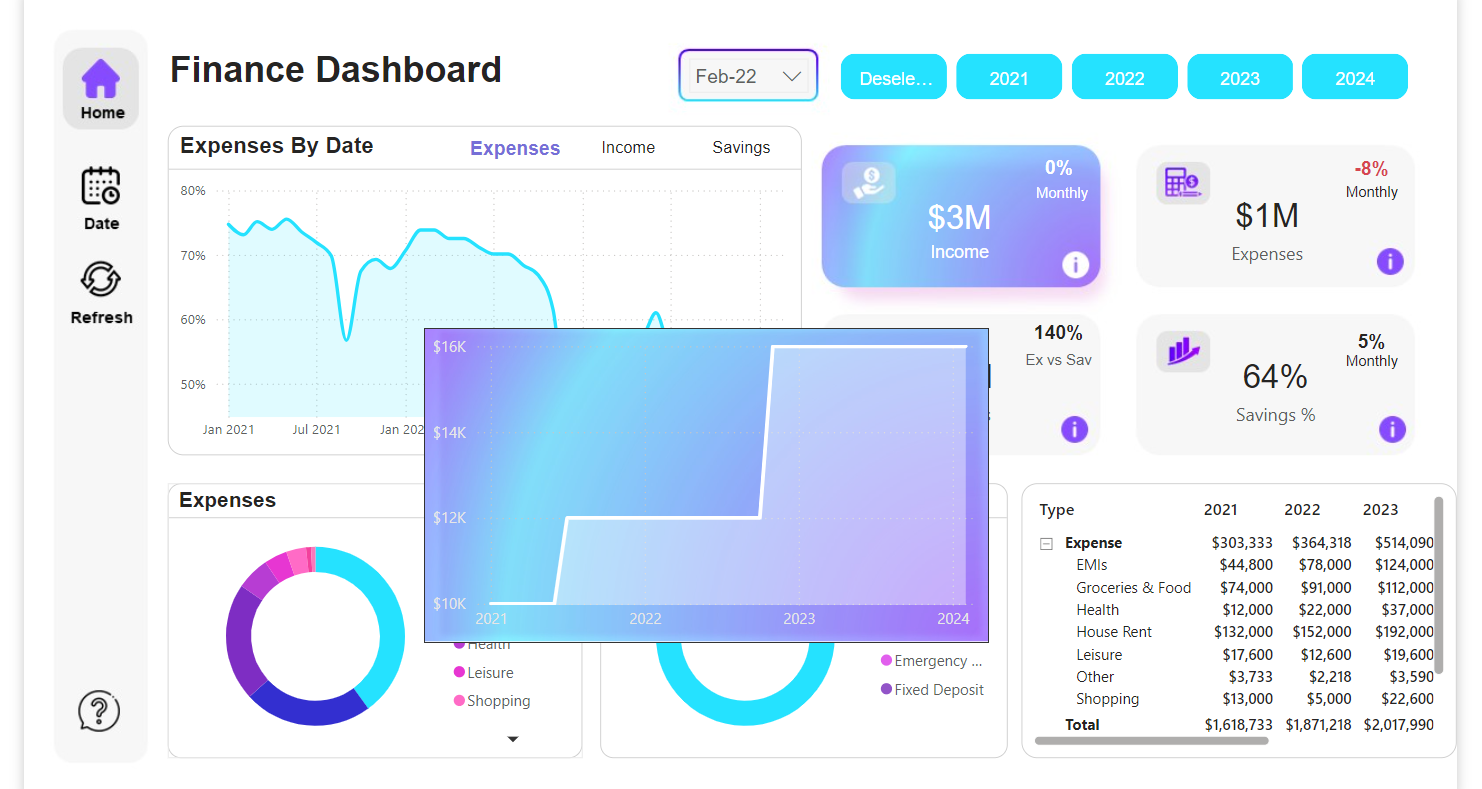

Layout of this report page (visuals, bound fields, positions):
{"tool":"powerbi","page":{"name":"Page 1","canvas":[1280,720],"ordinal":0},"visuals":[{"type":"card","fields":{"Values":["Dataset.Income"]},"box":[720.9,153.5,229.1,114],"z":0},{"type":"card","fields":{"Values":["Dataset.Savings"]},"box":[691.9,294.2,289.5,120.9],"z":1000},{"type":"card","fields":{"Values":["Dataset.Expenses"]},"box":[979.1,138.4,262.8,144.2],"z":2000},{"type":"card","fields":{"Values":["Dataset.Savings %"]},"box":[990.7,294.2,255.8,120.9],"z":3000},{"type":"advancedSlicerVisual","fields":{"Values":["Dataset.Yearr"]},"box":[725.2,50.6,518.6,52],"z":4000},{"type":"donutChart","title":"Savings","fields":{"Y":["Dataset.Savings"],"Category":["Dataset.Component"]},"box":[514.8,438.8,364,245.7],"z":5000},{"type":"donutChart","title":"Expenses","fields":{"Y":["Dataset.Expenses"],"Category":["Dataset.Component"]},"box":[128.4,438.8,370.7,245.7],"z":6000},{"type":"pivotTable","fields":{"Values":["Dataset.Total Value"],"Rows":["Dataset.Type","Dataset.Component"],"Columns":["Dataset.Yearr"]},"box":[891.1,438.8,388.6,245.7],"z":7000},{"type":"areaChart","fields":{"Category":["Dataset.Date"],"Y":["Dataset.Line_Chart_Measures"]},"box":[128.4,119.5,566.1,294.8],"z":8000},{"type":"advancedSlicerVisual","fields":{"Values":["Line_Selection_Table.Type"]},"box":[387.9,120.9,306.4,37.9],"z":9000},{"type":"slicer","fields":{"Values":["Selected_Date.Month-Yr"]},"box":[583.7,48.8,126.7,43],"z":10000},{"type":"card","fields":{"Values":["Dataset.Income Monthly Gr"]},"box":[879.8,130.7,89.9,54.8],"z":11000},{"type":"card","fields":{"Values":["Dataset.Savings Monthly Gr"]},"box":[1160.8,285.3,85.7,57.6],"z":12000},{"type":"card","fields":{"Values":["Dataset.Expenses Monthly Gr"]},"box":[1160.8,127.9,85.7,60.4],"z":13000},{"type":"card","fields":{"Values":["Dataset.Ex vs Sav"]},"box":[878.4,285.3,91.3,57.6],"z":14000},{"type":"textbox","box":[125.1,46.9,350.6,50.2],"z":15000},{"type":"textbox","box":[1175.8,164.1,80.4,30.1],"z":16000},{"type":"textbox","box":[898.9,165.3,80.4,30.1],"z":17000},{"type":"textbox","box":[1175.8,314.9,80.4,30.1],"z":18000},{"type":"actionButton","box":[39,148.9,62.2,47.7],"z":19000},{"type":"actionButton","box":[39,232.8,62.2,47.7],"z":21000}]}

Visuals, with their boxes on the page's 1280x720 design canvas (x1, y1, x2, y2). These are canvas units, not pixel positions in the 1482x789 screenshot, which may show the page scaled, cropped or inside an application window:
card - Dataset.Income: 721, 154, 950, 268
card - Dataset.Savings: 692, 294, 981, 415
card - Dataset.Expenses: 979, 138, 1242, 283
card - Dataset.Savings %: 991, 294, 1246, 415
advancedSlicerVisual - Dataset.Yearr: 725, 51, 1244, 103
"Savings" donutChart: 515, 439, 879, 684
"Expenses" donutChart: 128, 439, 499, 684
pivotTable - Dataset.Total Value x Dataset.Type: 891, 439, 1280, 684
areaChart - Dataset.Date x Dataset.Line_Chart_Measures: 128, 120, 694, 414
advancedSlicerVisual - Line_Selection_Table.Type: 388, 121, 694, 159
slicer - Selected_Date.Month-Yr: 584, 49, 710, 92
card - Dataset.Income Monthly Gr: 880, 131, 970, 186
card - Dataset.Savings Monthly Gr: 1161, 285, 1246, 343
card - Dataset.Expenses Monthly Gr: 1161, 128, 1246, 188
card - Dataset.Ex vs Sav: 878, 285, 970, 343
textbox: 125, 47, 476, 97
textbox: 1176, 164, 1256, 194
textbox: 899, 165, 979, 195
textbox: 1176, 315, 1256, 345
actionButton: 39, 149, 101, 197
actionButton: 39, 233, 101, 280
